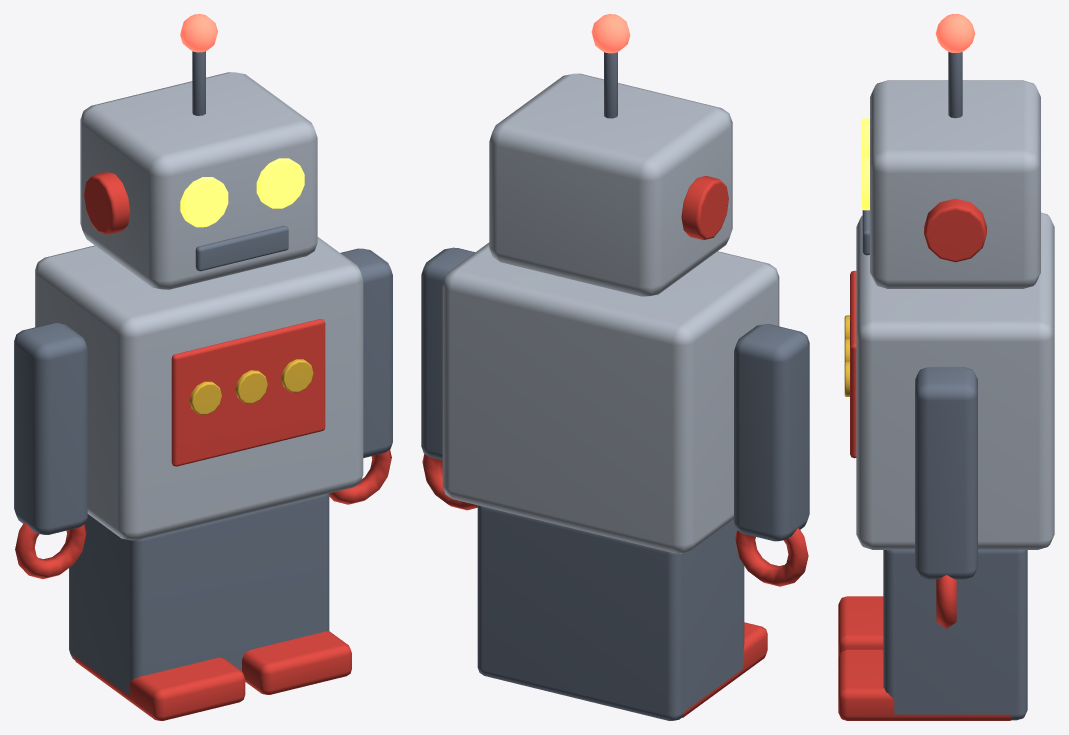
Rendered from toy_robot.glb.
3 renders of one model, left to right at view 1: azimuth 30°, elevation 25°; view 2: azimuth 150°, elevation 25°; view 3: azimuth 270°, elevation 25°, orthographic. The views are drawn at different scales.
Parts seen in each view (by area): view 1: toy_robot; view 2: toy_robot; view 3: toy_robot.
Boxes of the visible parts, box(x1,y1,x2,y2) form: toy_robot: box(14, 14, 392, 720); toy_robot: box(421, 14, 809, 720); toy_robot: box(838, 14, 1054, 720).
Bounding box in the file's own units: 4.94 × 8.07 × 2.4.
